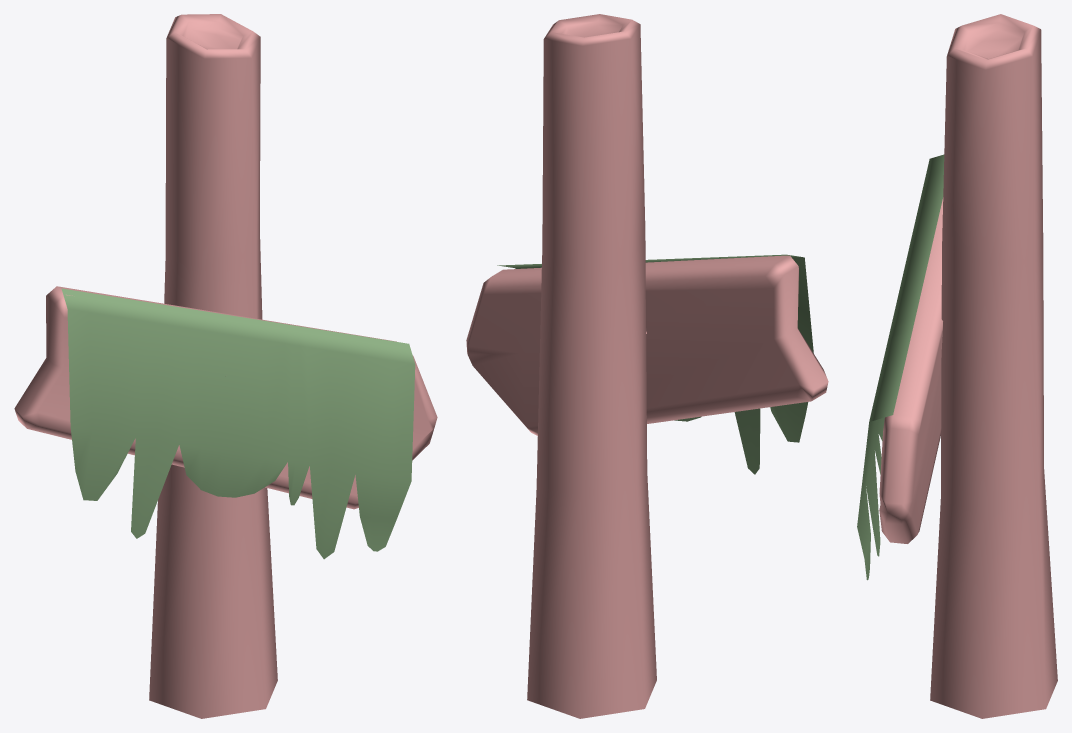
The model's file is Sign_4.fbx.
3 views of the same model, side by side, from view 1: azimuth 30°, elevation 25°; view 2: azimuth 150°, elevation 25°; view 3: azimuth 270°, elevation 25° (orthographic).
Visible parts, largest first — view 1: Signs_4; view 2: Signs_4; view 3: Signs_4.
Part boxes in pixels (box(x1,y1,x2,y2)): Signs_4: box(14, 14, 437, 718); Signs_4: box(466, 14, 828, 718); Signs_4: box(857, 14, 1057, 718).
Bounding box in the file's own units: 81.62 × 135 × 37.3.
